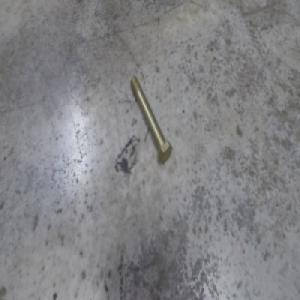Bolt: (130, 74, 173, 163)
